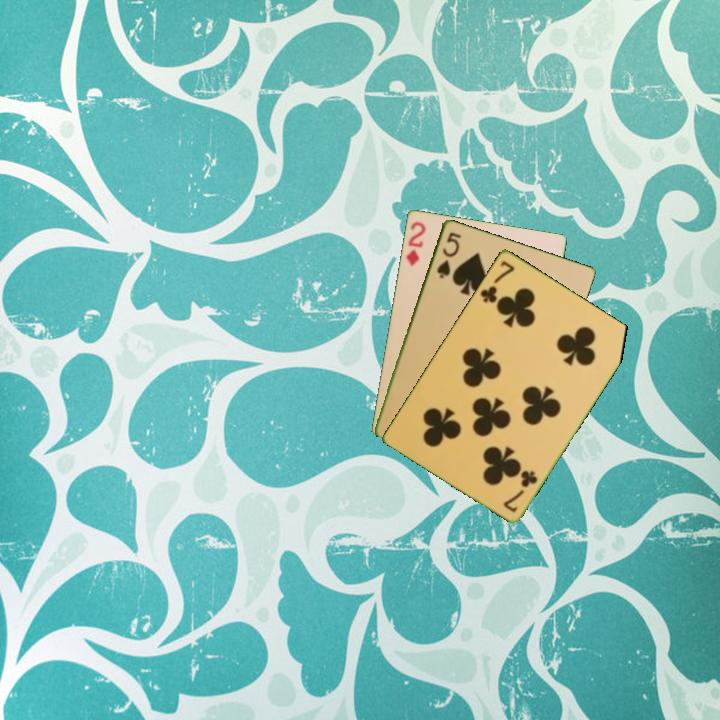2d: (402, 218, 428, 269)
5s: (433, 228, 463, 281)
7c: (477, 257, 517, 306), (500, 466, 540, 515)
